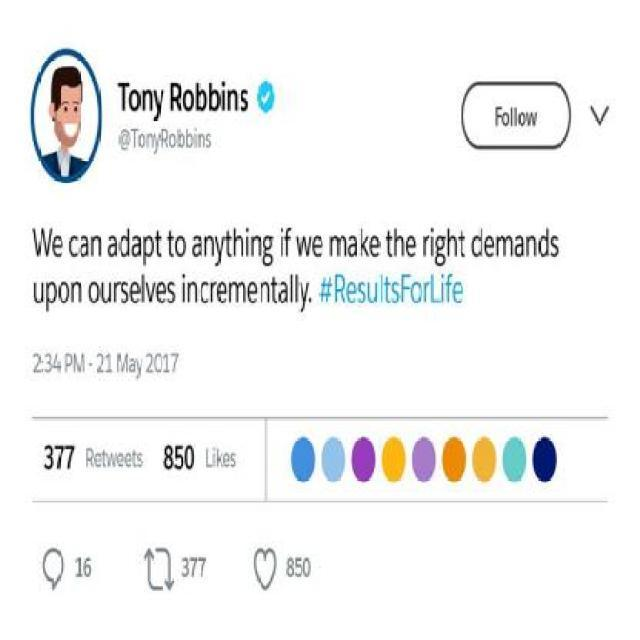0: (183, 444, 194, 470), (154, 351, 163, 374), (302, 556, 310, 578)
1: (74, 556, 83, 578), (162, 352, 170, 374), (105, 353, 112, 375)
2: (32, 354, 42, 372), (146, 352, 154, 374), (96, 354, 104, 372)
3: (44, 445, 54, 470), (180, 556, 188, 578), (44, 354, 52, 372)
4: (52, 352, 62, 374)
5: (174, 444, 183, 472), (294, 556, 302, 578)
6: (83, 557, 92, 577)
7: (64, 444, 74, 470), (54, 444, 64, 470), (170, 352, 179, 374), (198, 556, 207, 578), (189, 556, 197, 578), (206, 133, 212, 149)
8: (162, 442, 175, 472), (286, 554, 296, 580)
A: (106, 234, 120, 260), (79, 232, 90, 260), (130, 234, 142, 258), (192, 232, 202, 260), (278, 278, 288, 306), (347, 233, 358, 258), (514, 232, 524, 258), (128, 357, 136, 374)
B: (195, 82, 208, 111), (208, 82, 221, 111), (186, 126, 194, 148), (178, 126, 185, 148)
C: (68, 234, 80, 258), (199, 280, 210, 303)
D: (538, 228, 550, 257), (119, 226, 130, 257), (471, 226, 482, 257)
E: (247, 280, 258, 306), (346, 280, 357, 306), (369, 233, 380, 258), (156, 280, 167, 305), (216, 280, 227, 305), (453, 280, 464, 305), (52, 234, 63, 258), (406, 235, 417, 258), (130, 282, 141, 304), (312, 234, 322, 257), (484, 235, 494, 258), (94, 450, 102, 468), (124, 452, 132, 470), (117, 453, 125, 469), (222, 451, 230, 467)
F: (284, 226, 292, 257), (402, 273, 410, 302), (444, 273, 452, 302), (494, 105, 502, 126)
G: (434, 235, 448, 268), (261, 236, 274, 267)
H: (447, 228, 458, 257), (233, 228, 244, 257), (394, 227, 404, 256)
I: (431, 224, 434, 258), (441, 272, 444, 303), (222, 79, 225, 110), (246, 227, 249, 256), (280, 227, 283, 256), (182, 273, 185, 302), (194, 128, 197, 148), (212, 446, 215, 466)
K: (360, 227, 369, 256), (216, 446, 222, 468)
L: (432, 274, 440, 304), (206, 448, 212, 468), (380, 272, 383, 303), (290, 273, 293, 302), (510, 106, 513, 126), (514, 106, 517, 126), (142, 274, 144, 303), (296, 274, 298, 302)
M: (228, 282, 247, 304), (496, 234, 514, 256), (330, 234, 347, 256), (116, 352, 129, 374), (74, 353, 85, 375)
N: (90, 235, 102, 258), (70, 282, 82, 304), (526, 236, 537, 258), (259, 282, 270, 304), (142, 90, 153, 112), (203, 236, 214, 256), (228, 90, 238, 112), (188, 282, 197, 304), (252, 234, 260, 256), (146, 133, 154, 149), (197, 132, 205, 148)
O: (128, 88, 141, 114), (182, 88, 195, 112), (410, 279, 422, 304), (175, 234, 188, 257), (88, 282, 100, 304), (59, 281, 70, 304), (168, 132, 178, 148), (138, 132, 146, 150), (517, 112, 526, 126), (502, 111, 509, 127)
P: (143, 236, 154, 266), (47, 282, 56, 312), (66, 354, 72, 372)
R: (334, 272, 346, 303), (169, 82, 182, 110), (423, 234, 431, 256), (113, 280, 121, 302), (423, 280, 431, 302), (209, 282, 217, 304), (86, 448, 94, 470), (160, 129, 168, 148)
S: (167, 280, 176, 306), (120, 281, 129, 304), (358, 282, 366, 304), (240, 90, 248, 112), (392, 281, 399, 304), (550, 236, 558, 256), (229, 452, 237, 468), (137, 452, 143, 468)
T: (118, 82, 130, 110), (385, 228, 393, 260), (384, 276, 392, 306), (154, 230, 162, 258), (458, 230, 466, 258), (166, 230, 174, 258), (270, 276, 278, 304), (130, 126, 139, 148), (226, 230, 232, 258), (132, 448, 137, 468), (102, 448, 106, 468)
U: (100, 282, 112, 304), (367, 282, 378, 304), (34, 281, 43, 304)
V: (146, 282, 156, 304)
W: (32, 227, 52, 258), (296, 236, 312, 258), (106, 452, 117, 468), (527, 110, 538, 126)
Y: (152, 89, 165, 122), (214, 235, 226, 268), (300, 280, 308, 314), (153, 133, 161, 155), (135, 358, 143, 380)
